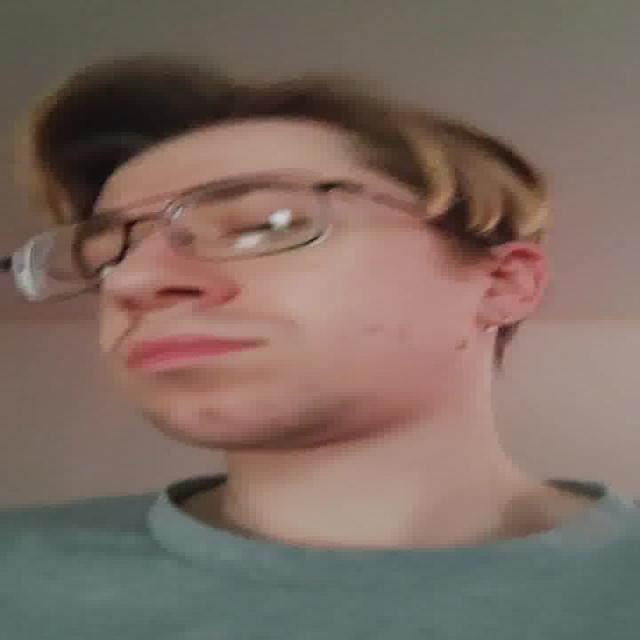earlobe: (476, 307, 531, 329)
eye: (220, 216, 314, 238)
nose: (107, 292, 223, 338)
wholeear: (478, 242, 555, 327)
